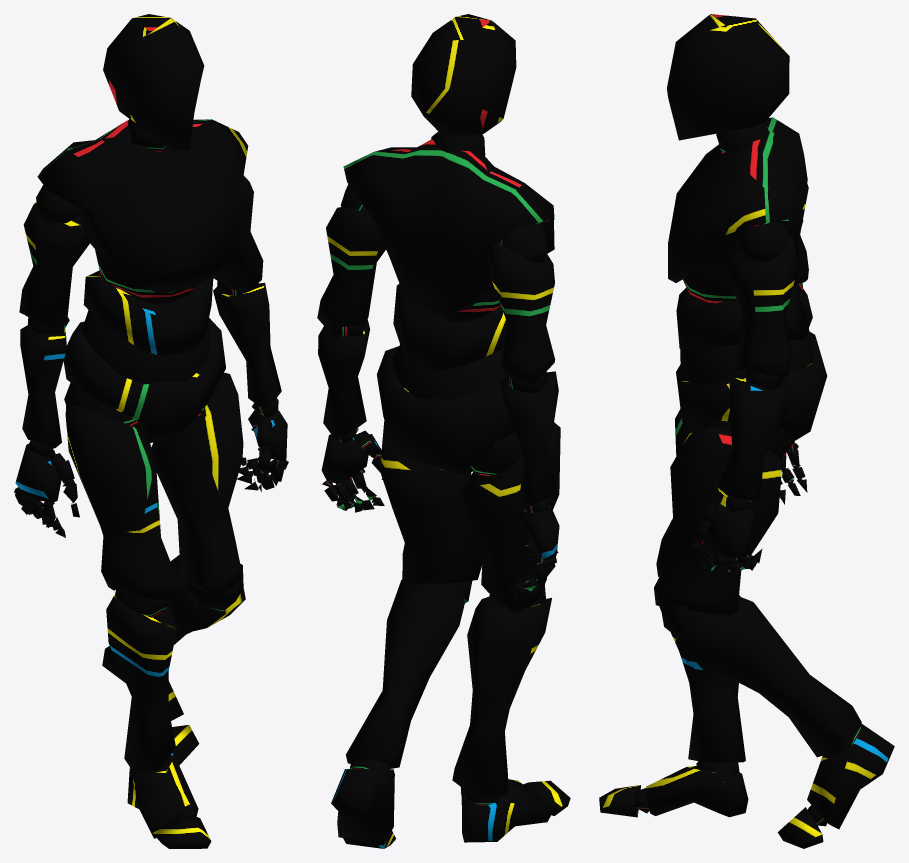
Rendered from y-bot-origin_000012.obj.
3 renders of one model, left to right at view 1: azimuth 30°, elevation 25°; view 2: azimuth 150°, elevation 25°; view 3: azimuth 270°, elevation 25°, orthographic. The views are drawn at different scales.
Parts seen in each view (by area): view 1: Alpha_Surface_Alpha_SurfaceMesh, Alpha_Joints_Alpha_JointsMesh; view 2: Alpha_Surface_Alpha_SurfaceMesh, Alpha_Joints_Alpha_JointsMesh; view 3: Alpha_Surface_Alpha_SurfaceMesh, Alpha_Joints_Alpha_JointsMesh.
Boxes of the visible parts, x1,y1,x2,y2 form: Alpha_Surface_Alpha_SurfaceMesh: (15, 14, 287, 848); Alpha_Joints_Alpha_JointsMesh: (14, 119, 288, 820); Alpha_Surface_Alpha_SurfaceMesh: (317, 14, 570, 848); Alpha_Joints_Alpha_JointsMesh: (322, 131, 558, 845); Alpha_Surface_Alpha_SurfaceMesh: (599, 14, 894, 848); Alpha_Joints_Alpha_JointsMesh: (635, 123, 861, 826).
Bounding box in the file's own units: 0.5784 × 1.78 × 0.5944.
